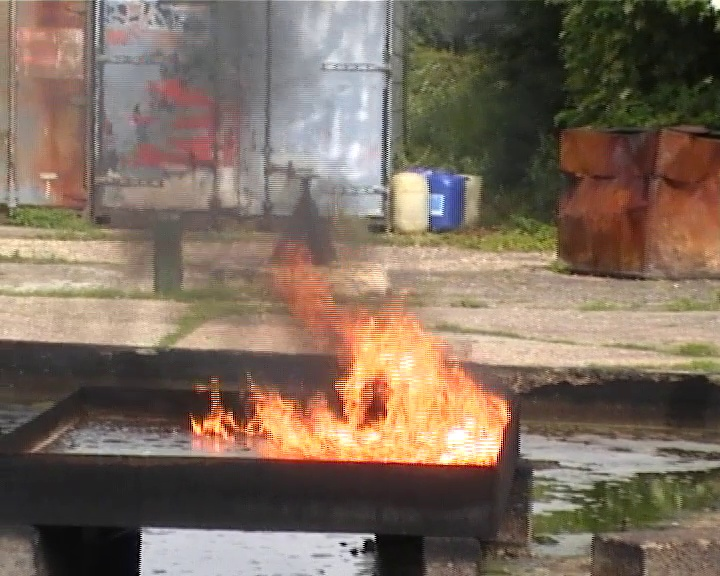fire: (192, 290, 508, 463)
